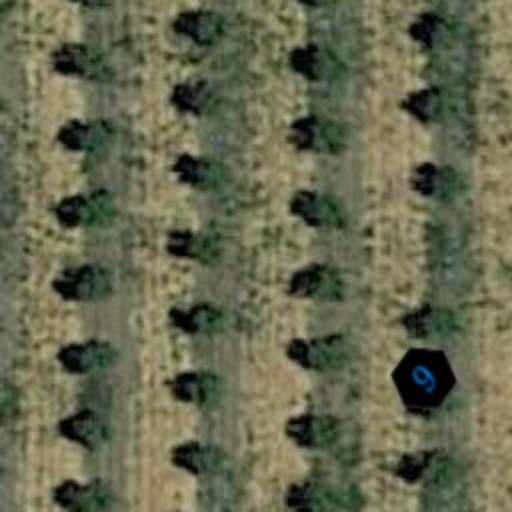hexagon: (376, 330, 472, 426)
